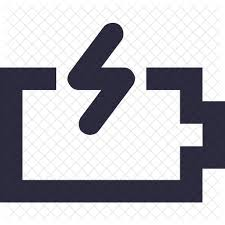charging sign: (1, 16, 225, 216)
